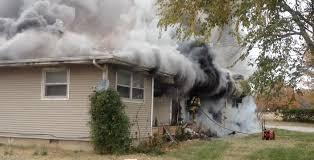smoke: (0, 0, 262, 136)
